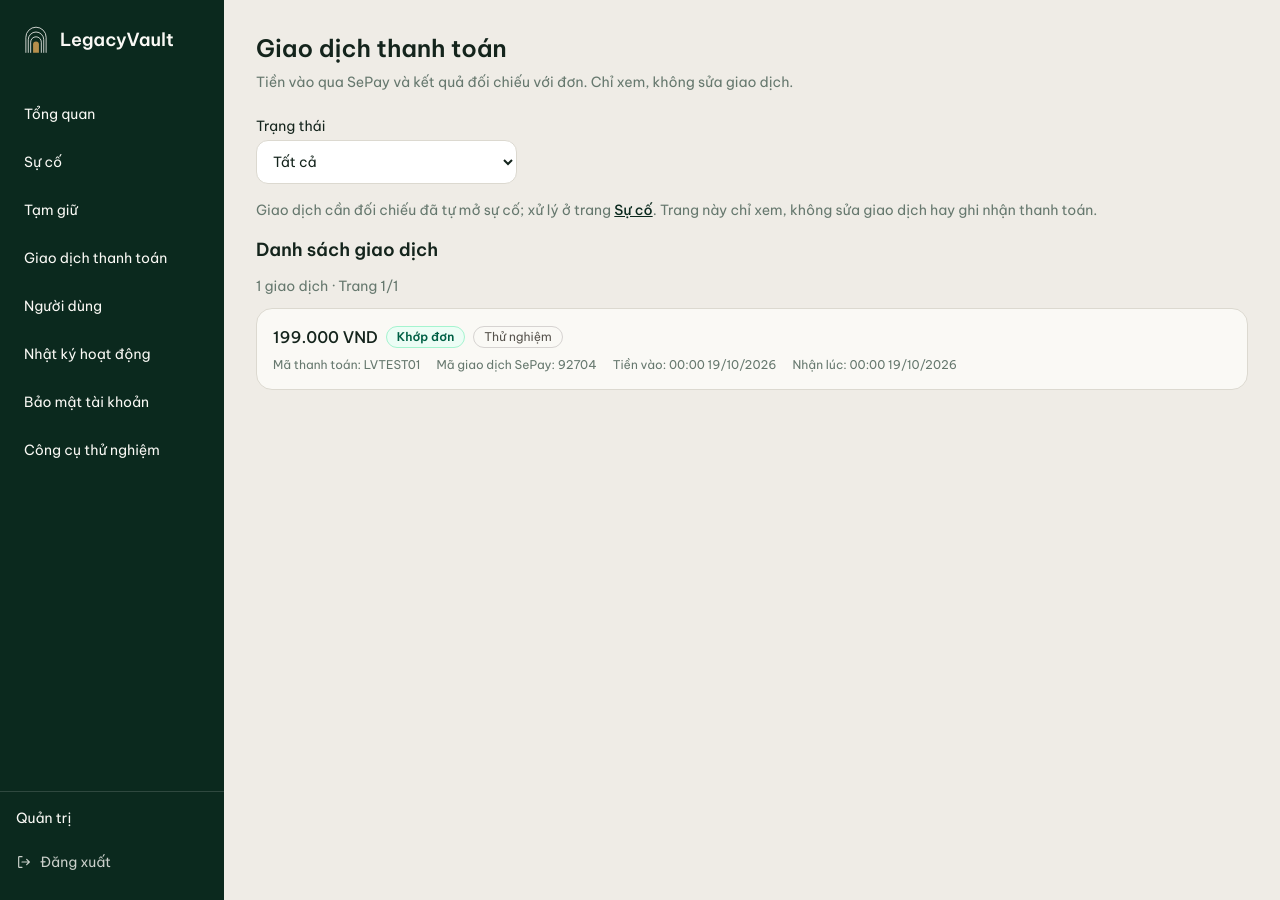
Test case: Giao dịch thanh toán (chỉ xem) › lọc theo trạng thái gửi đúng tham số và báo rỗng khi không khớp
Expected: the text "199.000 VND" is shown, [273,325,378,349]
Select "Đã xử lý" in the dropdown labelled "Trạng thái". click: [387, 162]
box: [256,140,517,184]
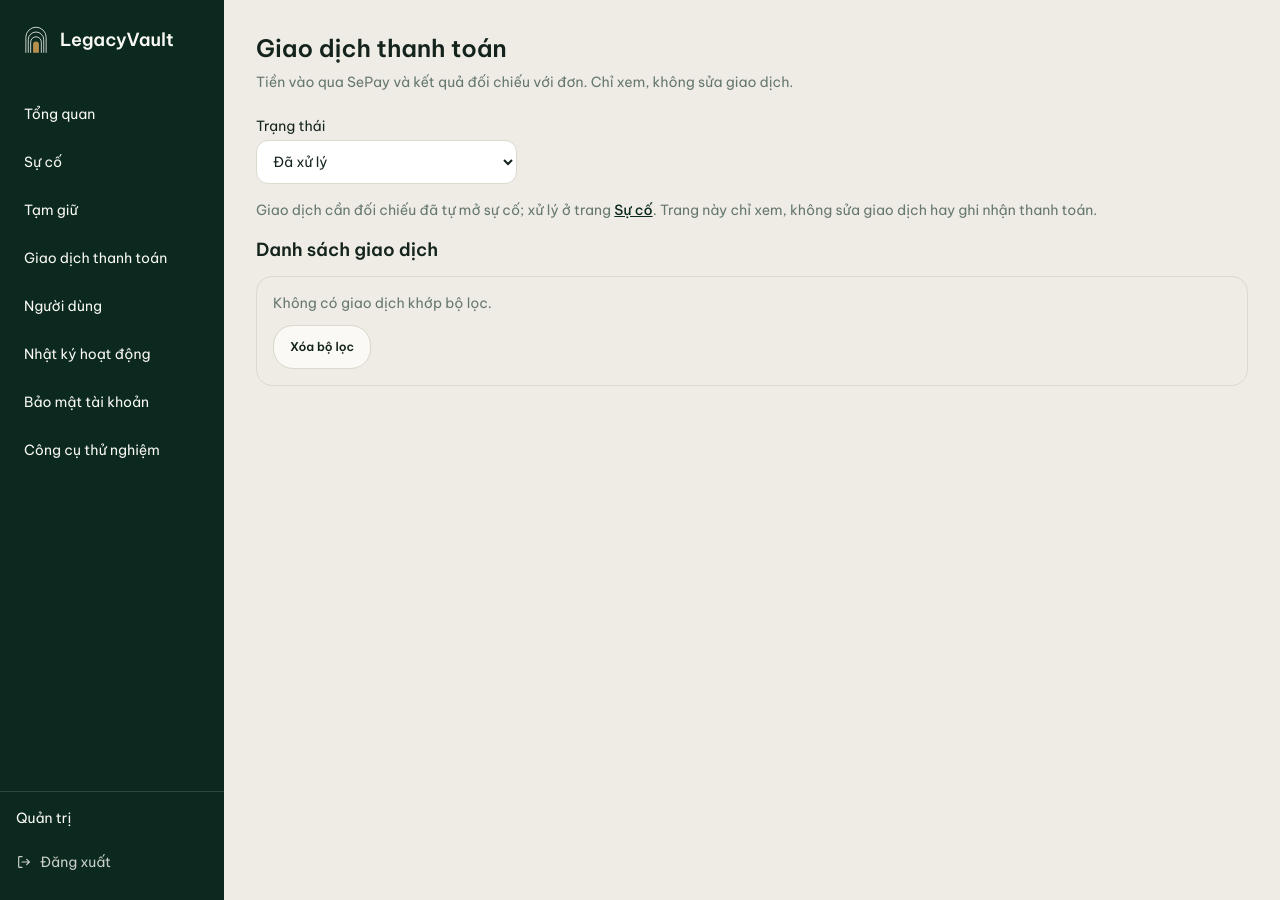
Expected: the text "Không có giao dịch khớp bộ lọc." is shown, [273,294,492,312]
